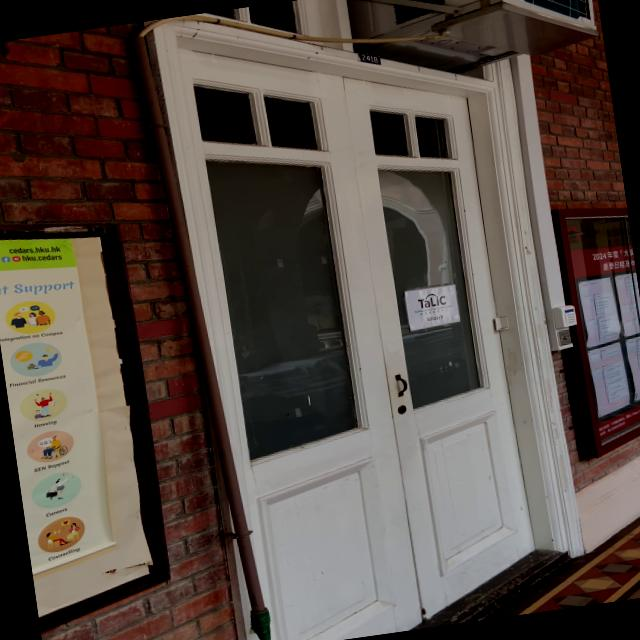room241b: (356, 49, 386, 70)
